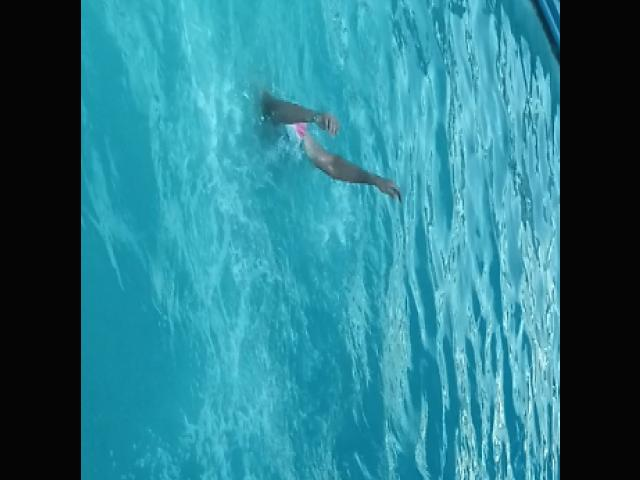drowning: (266, 88, 404, 202)
